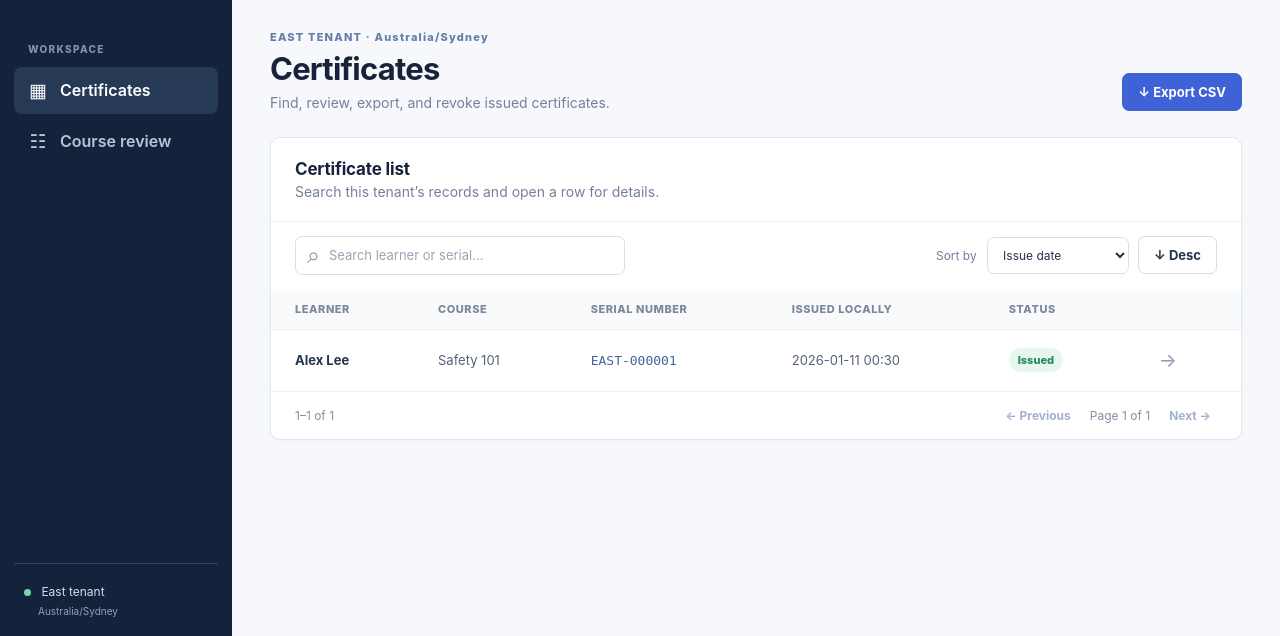
Test case: certificate console › reuses the same key and body when retrying an uncertain issue response
Expected: the text "EAST-000001" is shown, 567,329 -> 768,391
Step 1. Click the button "☷ Course review" → (116, 141), box 14,118 -> 218,165
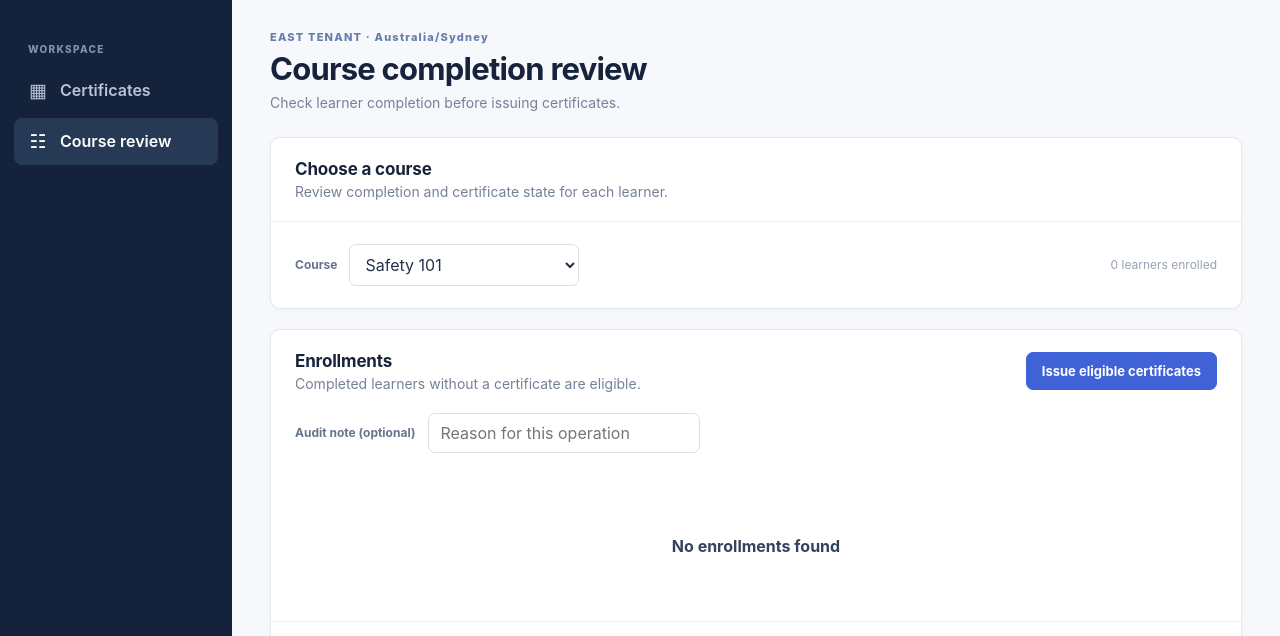
Expected: the text "No enrollments found" is shown, 672,536 -> 840,556
Step 2. Click the button "Issue eligible certificates" → (1121, 371), box 1026,352 -> 1217,390
(page scrolled)
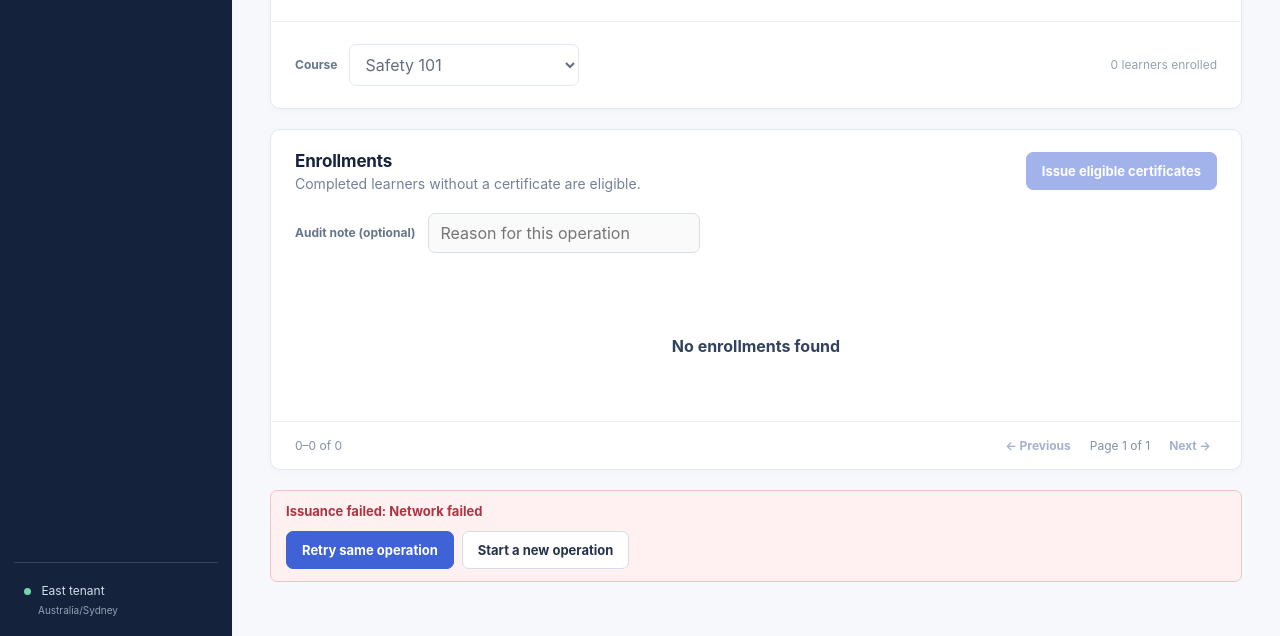
Expected: the text "Issuance failed: Network failed" is shown, 286,503 -> 482,519
Step 3. Click the button "Retry same operation" → (370, 550), box 286,531 -> 454,569
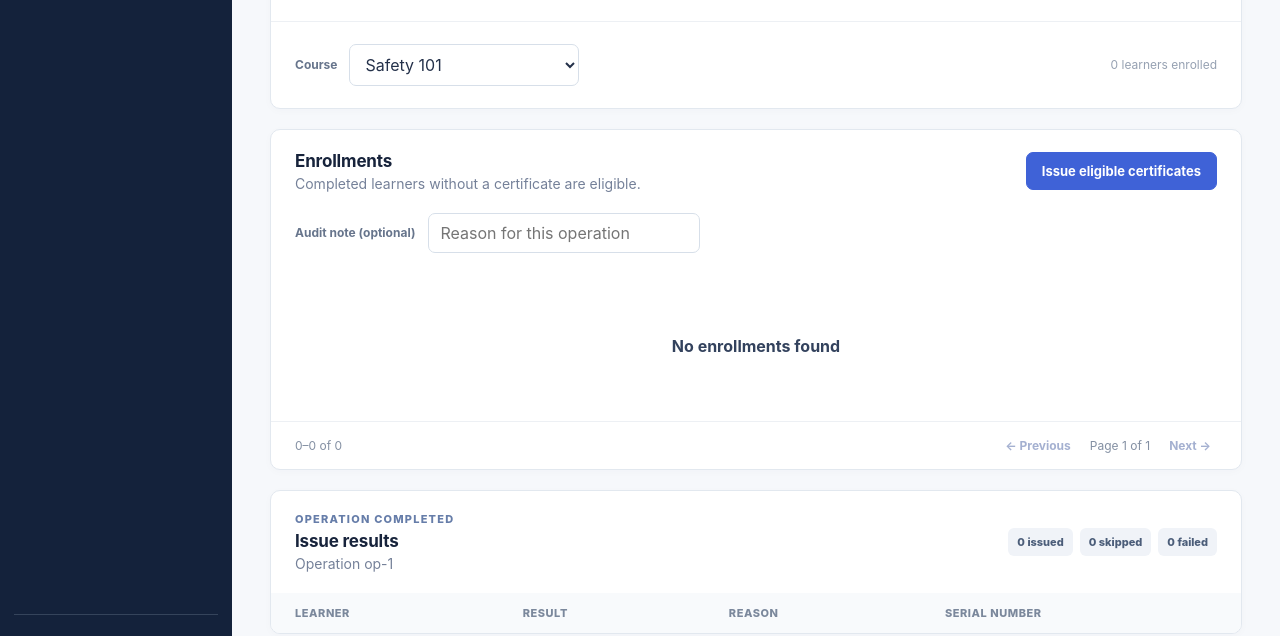
Expected: the heading "Issue results" is shown, 295,531 -> 399,551
